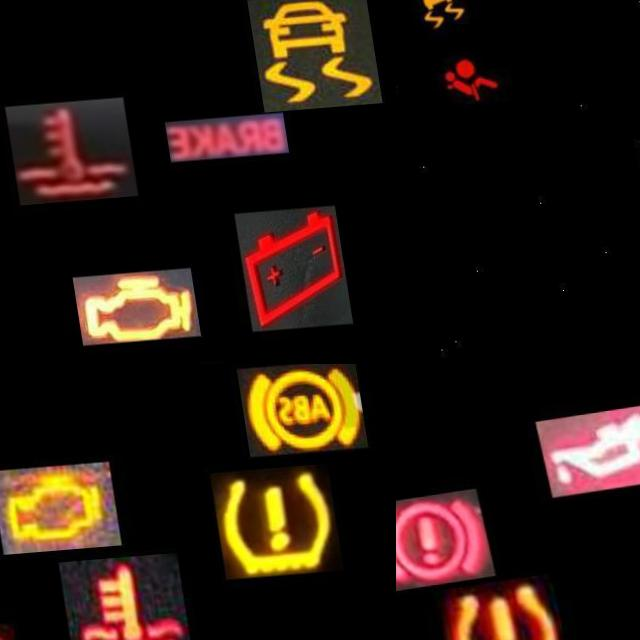Engine cooling system: (1, 103, 131, 210), (48, 557, 180, 640)
